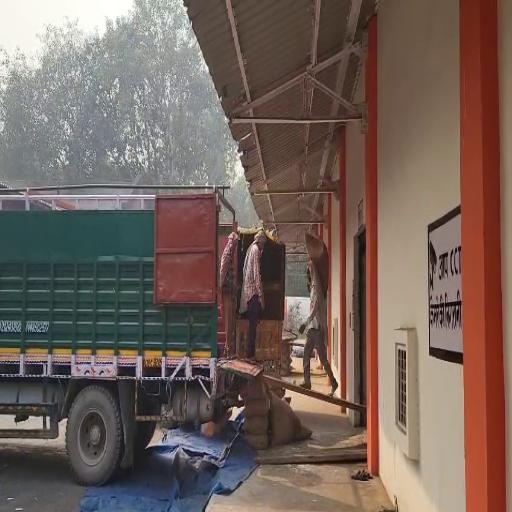bag: (304, 229, 333, 300)
